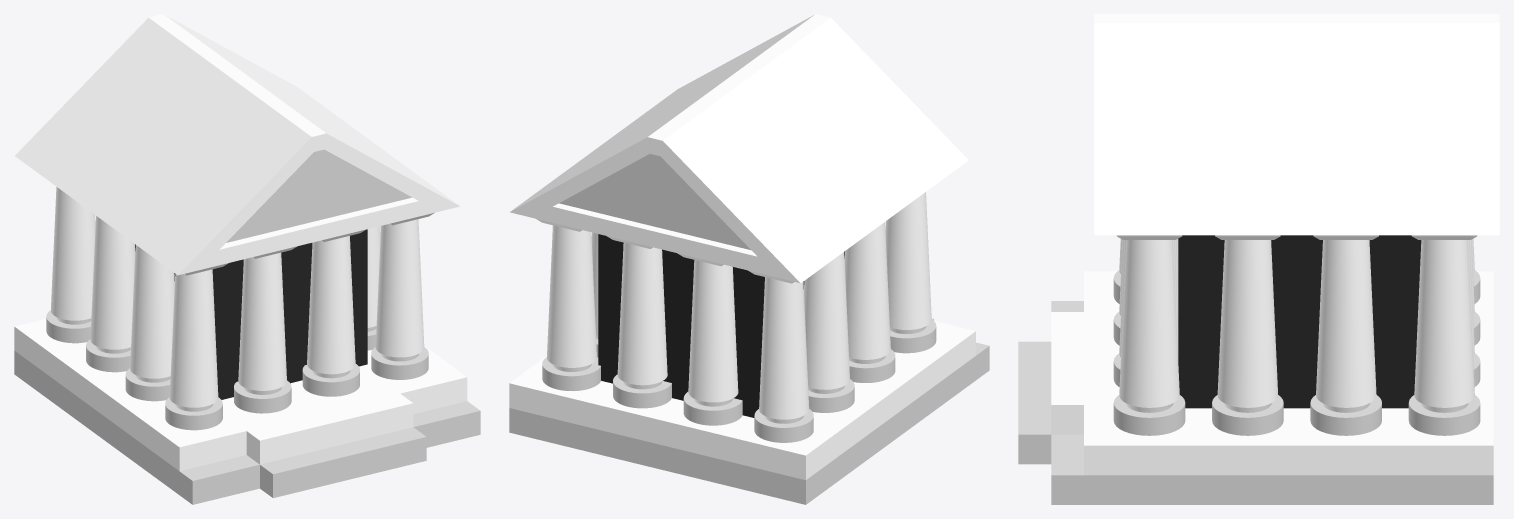
File: classical_building.gltf
The picture shows the model from 3 angles, left to right: view 1: azimuth 30°, elevation 25°; view 2: azimuth 150°, elevation 25°; view 3: azimuth 270°, elevation 25°; orthographic projection. The views are drawn at different scales.
Parts seen in each view (by area): view 1: Cube.470; view 2: Cube.470; view 3: Cube.470.
Boxes of the visible parts, <box> form: Cube.470: <box>14,14,480,504</box>; Cube.470: <box>509,14,989,504</box>; Cube.470: <box>1018,14,1499,504</box>.
Bounding box in the file's own units: 1.75 × 1.89 × 2.04.
1 material, 1 textured.
